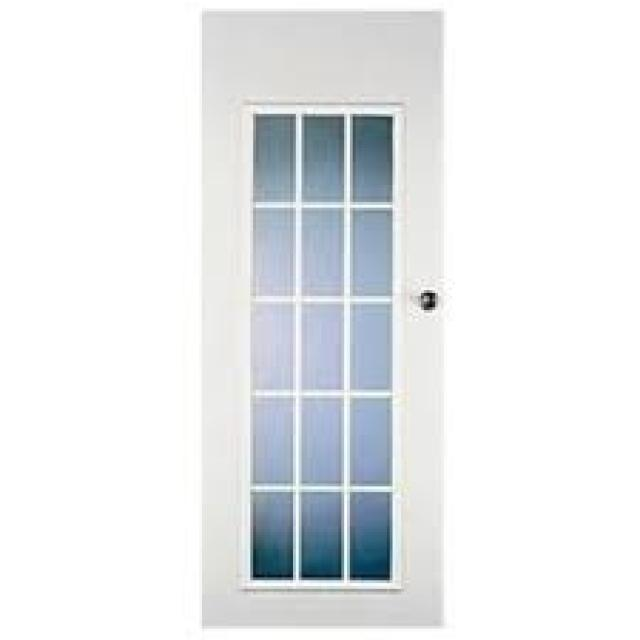door: (201, 10, 445, 627)
